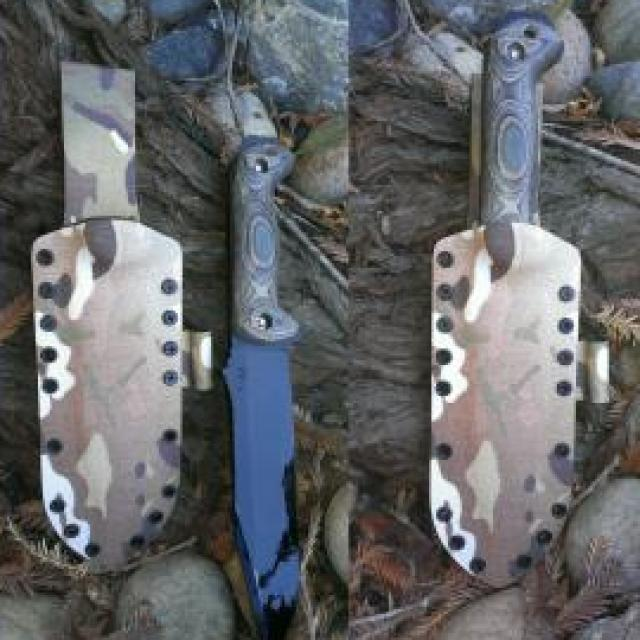knife: (216, 130, 306, 640)
